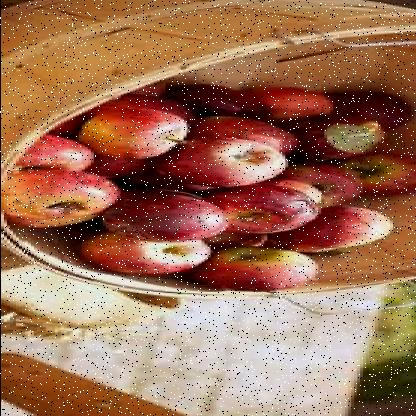apple: (168, 139, 278, 186), (87, 236, 209, 278), (204, 246, 314, 292), (210, 188, 314, 236), (111, 195, 221, 239), (90, 107, 186, 153), (197, 117, 294, 155), (317, 204, 392, 249), (18, 136, 93, 167), (263, 91, 330, 117)
damaged_apple: (3, 168, 135, 218), (305, 118, 395, 158)
